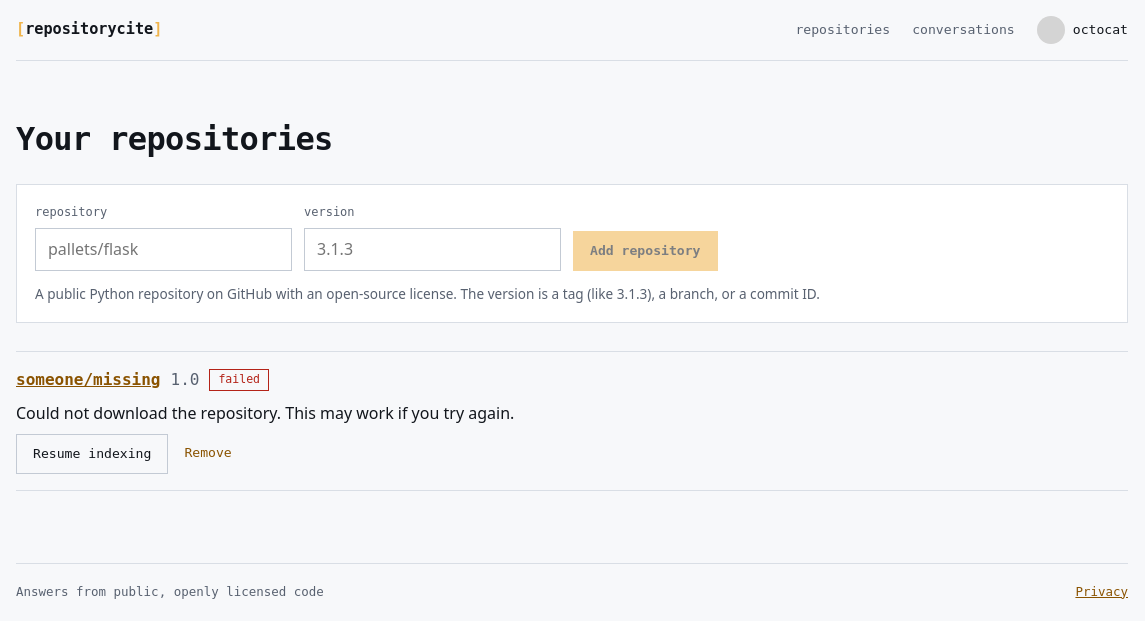
it: resuming and removing › resumes a retryable failure and starts showing progress
Click the button "Resume indexing": (92, 454) [16,434,168,474]
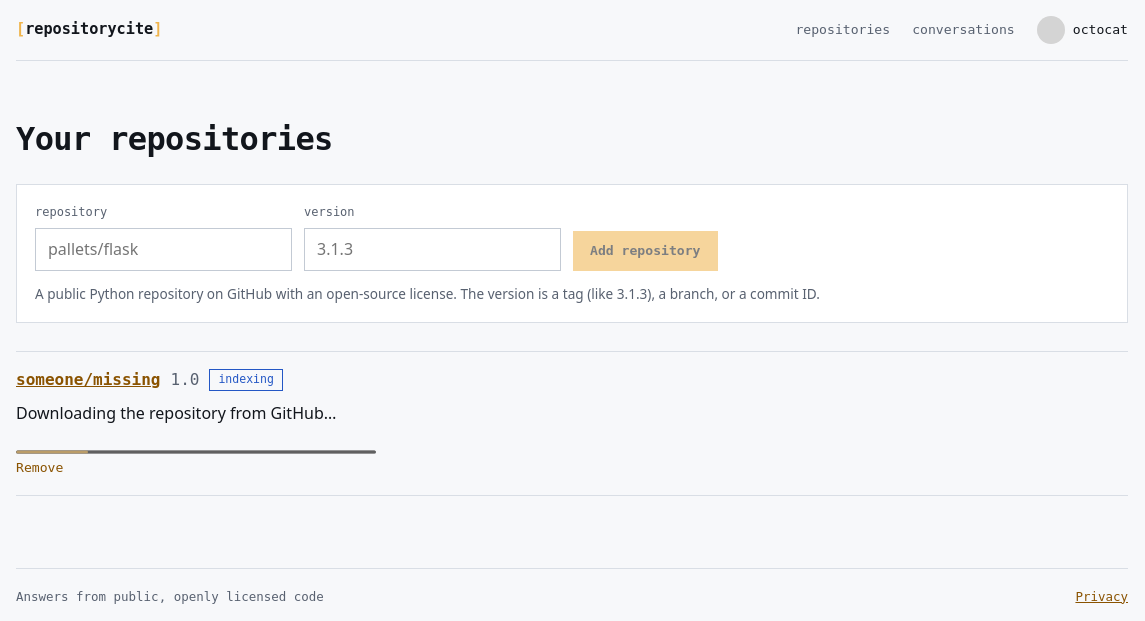
Result: the text "Indexing" is shown at [209,369,283,391]
Result: the button "Resume indexing" is gone
